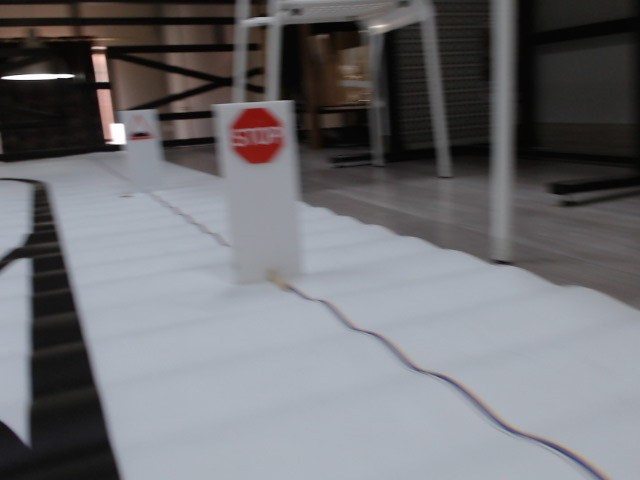Nerov: (127, 115, 156, 144)
Stop: (231, 109, 286, 164)
